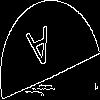A: (25, 25, 56, 79)
